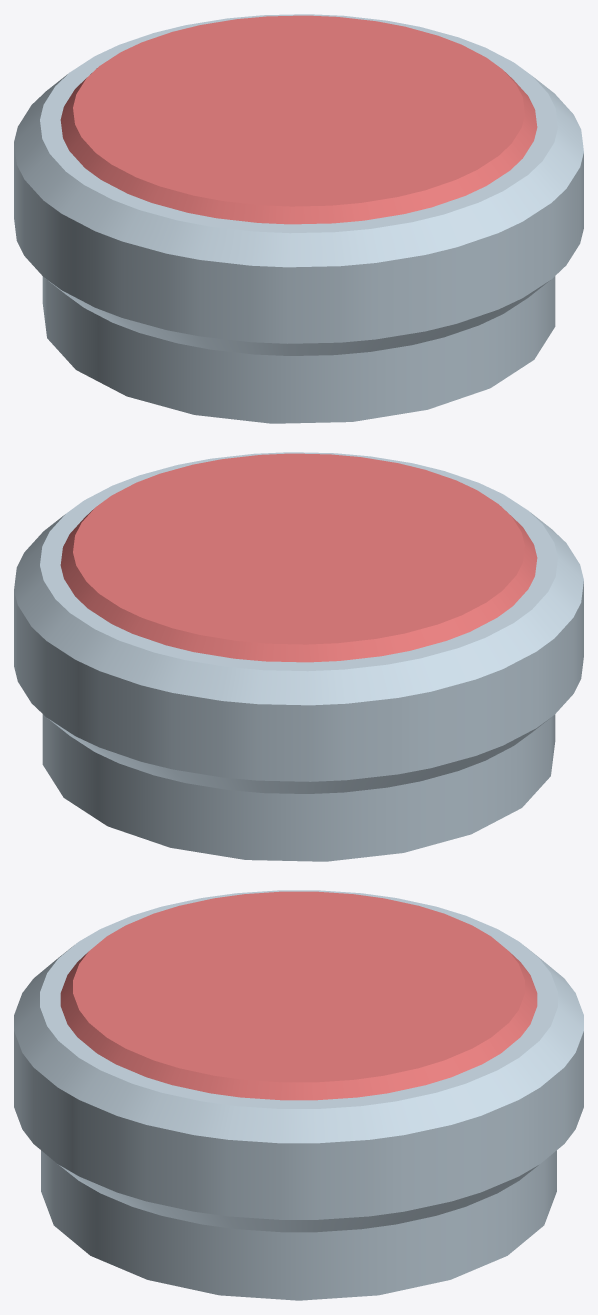
Rendered from ButtonOff.fbx.
3 views of the same model, one above another, from view 1: azimuth 30°, elevation 25°; view 2: azimuth 150°, elevation 25°; view 3: azimuth 270°, elevation 25° (orthographic).
Parts seen in each view (by area): view 1: pCylinder4, pCylinder5, pCylinder3; view 2: pCylinder4, pCylinder5, pCylinder3; view 3: pCylinder4, pCylinder5, pCylinder3.
Boxes of the visible parts, x1=… form: pCylinder4: x1=14, y1=14, x2=583, y2=355; pCylinder5: x1=60, y1=15, x2=537, y2=224; pCylinder3: x1=42, y1=276, x2=555, y2=423; pCylinder4: x1=14, y1=452, x2=583, y2=793; pCylinder5: x1=60, y1=453, x2=537, y2=662; pCylinder3: x1=42, y1=714, x2=555, y2=861; pCylinder4: x1=14, y1=890, x2=583, y2=1232; pCylinder5: x1=60, y1=891, x2=537, y2=1100; pCylinder3: x1=41, y1=1150, x2=556, y2=1300.
Size of the model in its own units: 4.27 by 1.69 by 4.27.
